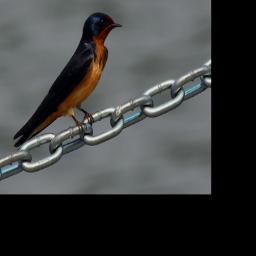Swallow: (12, 12, 123, 151)
